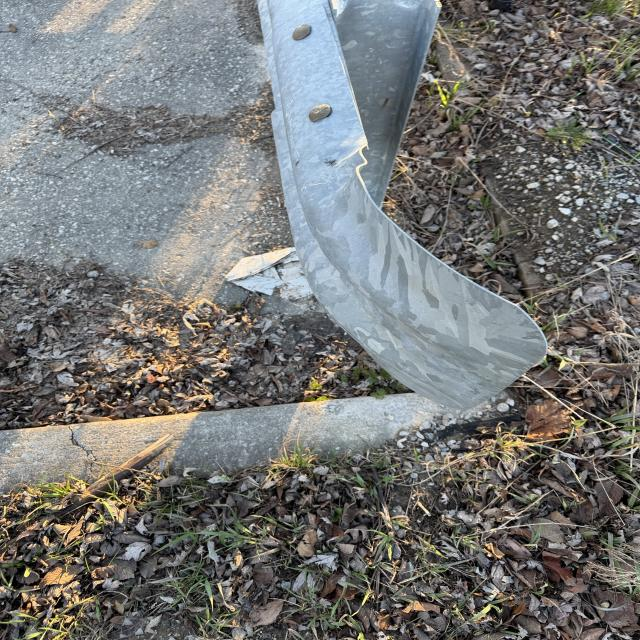Guard rail: (247, 2, 532, 386)
